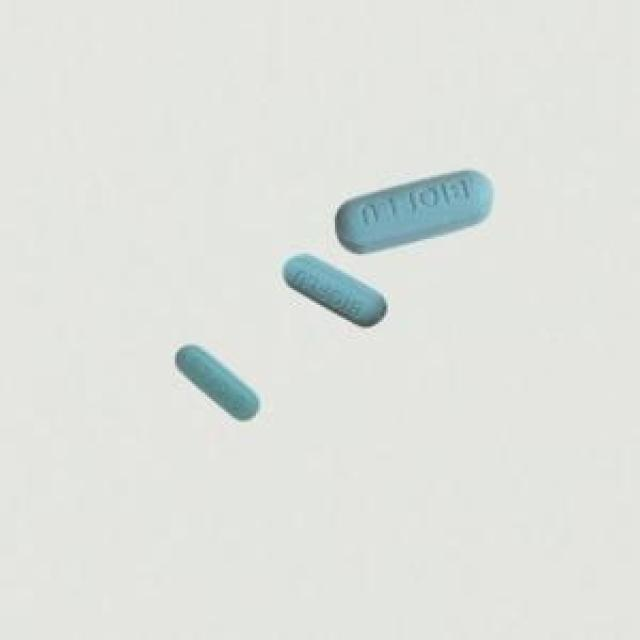Bioflu: (320, 158, 498, 252), (269, 251, 396, 341), (173, 334, 264, 431)
